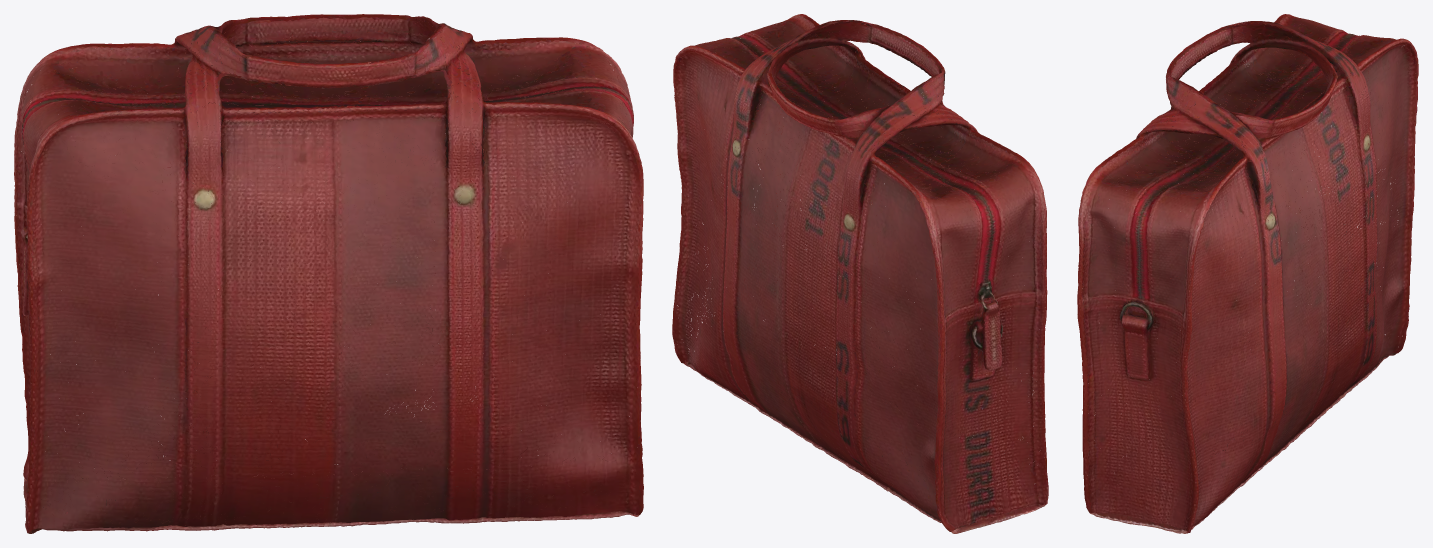
Rendered from handbags-transformed.glb.
The picture shows the model from 3 angles, left to right: view 1: azimuth 30°, elevation 25°; view 2: azimuth 150°, elevation 25°; view 3: azimuth 270°, elevation 25°; orthographic projection. The views are drawn at different scales.
Visible parts, largest first — view 1: Object_2, Object_6; view 2: Object_2, Object_6; view 3: Object_2, Object_6.
Boxes of the visible parts, box(x1,y1,x2,y2) form: Object_2: box(14, 14, 643, 532); Object_6: box(23, 459, 638, 533); Object_2: box(672, 14, 1048, 531); Object_6: box(683, 337, 1045, 533); Object_2: box(1077, 14, 1418, 532); Object_6: box(1090, 333, 1395, 533).
Bounding box in the file's own units: 8.68 × 7.45 × 6.05.
Materials: 2 (2 with a texture image).
